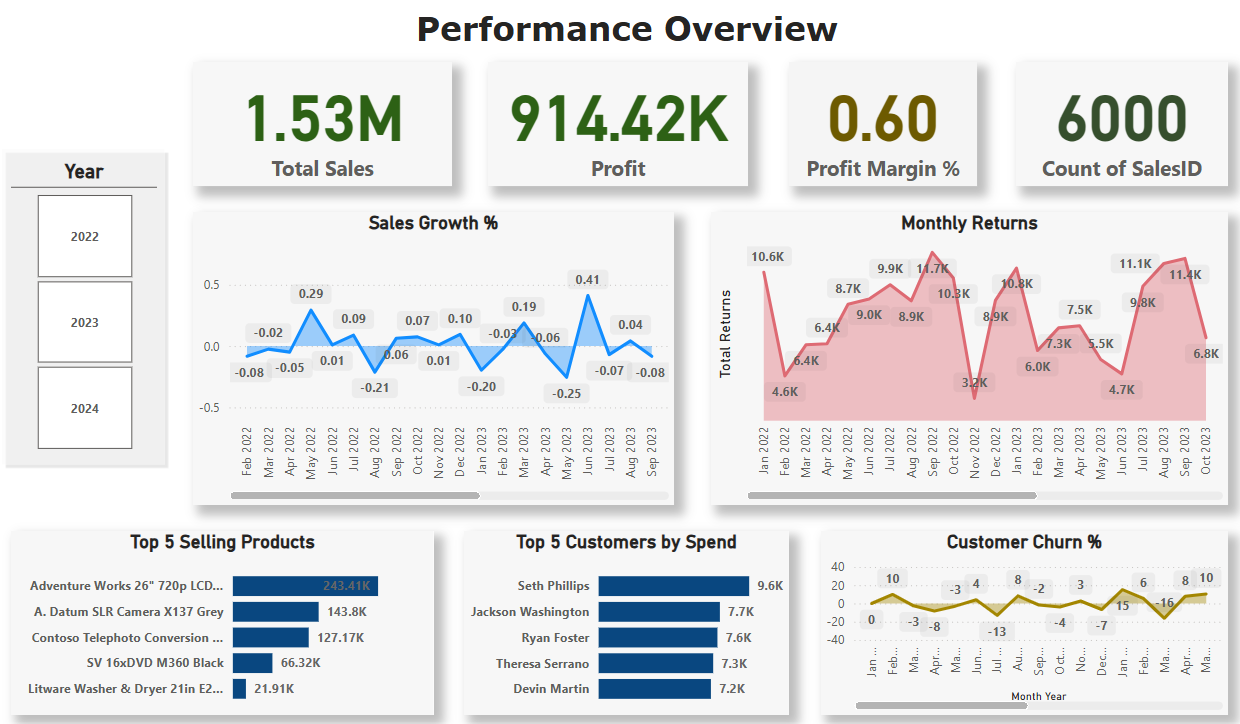

What the dashboard file says about the page in this screenshot:
{"tool":"powerbi","page":{"name":"KPI Overview","canvas":[1280,720],"ordinal":7},"visuals":[{"type":"shape","box":[27.2,154.7,168.3,317.1],"z":0},{"type":"textbox","box":[0,17.5,1280,54.5],"z":1000},{"type":"slicer","title":"Year","fields":{"Values":["date_table.Year"]},"box":[40.9,169.3,142,287.9],"z":2000},{"type":"card","fields":{"Values":["sales_table.Total Sales"]},"box":[217.9,74.9,251.9,120.6],"z":3000},{"type":"card","fields":{"Values":["CountNonNull(sales_table.SalesID)"]},"box":[1018.4,74.9,206.2,120.6],"z":4000},{"type":"card","fields":{"Values":["expenses_table.Profit"]},"box":[504.8,74.9,252.9,120.6],"z":5000},{"type":"card","fields":{"Values":["expenses_table.Profit Margin %"]},"box":[797.6,74.9,182.9,120.6],"z":6000},{"type":"lineChart","title":"Sales Growth %","fields":{"Y":["sales_table.Sales Growth %"],"Category":["date_table.Month Year"]},"box":[217.9,220.8,467.8,285],"z":7000},{"type":"barChart","title":"Top 5 Selling Products","fields":{"Category":["products_table.ProductName"],"Y":["sales_table.Total Sales"]},"box":[40.9,531.1,411.4,179],"z":8000},{"type":"barChart","title":"Top 5 Customers by Spend","fields":{"Category":["customers_table.CustomerName"],"Y":["sales_table.Total Sales"]},"box":[481.5,531.1,316.1,179],"z":9000},{"type":"lineChart","title":"Monthly Returns","fields":{"Category":["date_table.Month Year"],"Y":["returns_table.Total Returns"]},"box":[721.7,220.8,502.9,285],"z":10000},{"type":"lineChart","title":"Customer Churn %","fields":{"Category":["date_table.Month Year"],"Y":["sales_table.Customer Churn %"]},"box":[828.7,531.1,395.9,179],"z":11000}]}

Visuals, with their boxes on the page's 1280x720 design canvas (x1, y1, x2, y2). These are canvas units, not pixel positions in the 1240x724 screenshot, which may show the page scaled, cropped or inside an application window:
shape: region(27, 155, 196, 472)
textbox: region(0, 18, 1280, 72)
"Year" slicer: region(41, 169, 183, 457)
card - sales_table.Total Sales: region(218, 75, 470, 196)
card - CountNonNull(sales_table.SalesID): region(1018, 75, 1225, 196)
card - expenses_table.Profit: region(505, 75, 758, 196)
card - expenses_table.Profit Margin %: region(798, 75, 980, 196)
"Sales Growth %" lineChart: region(218, 221, 686, 506)
"Top 5 Selling Products" barChart: region(41, 531, 452, 710)
"Top 5 Customers by Spend" barChart: region(482, 531, 798, 710)
"Monthly Returns" lineChart: region(722, 221, 1225, 506)
"Customer Churn %" lineChart: region(829, 531, 1225, 710)
